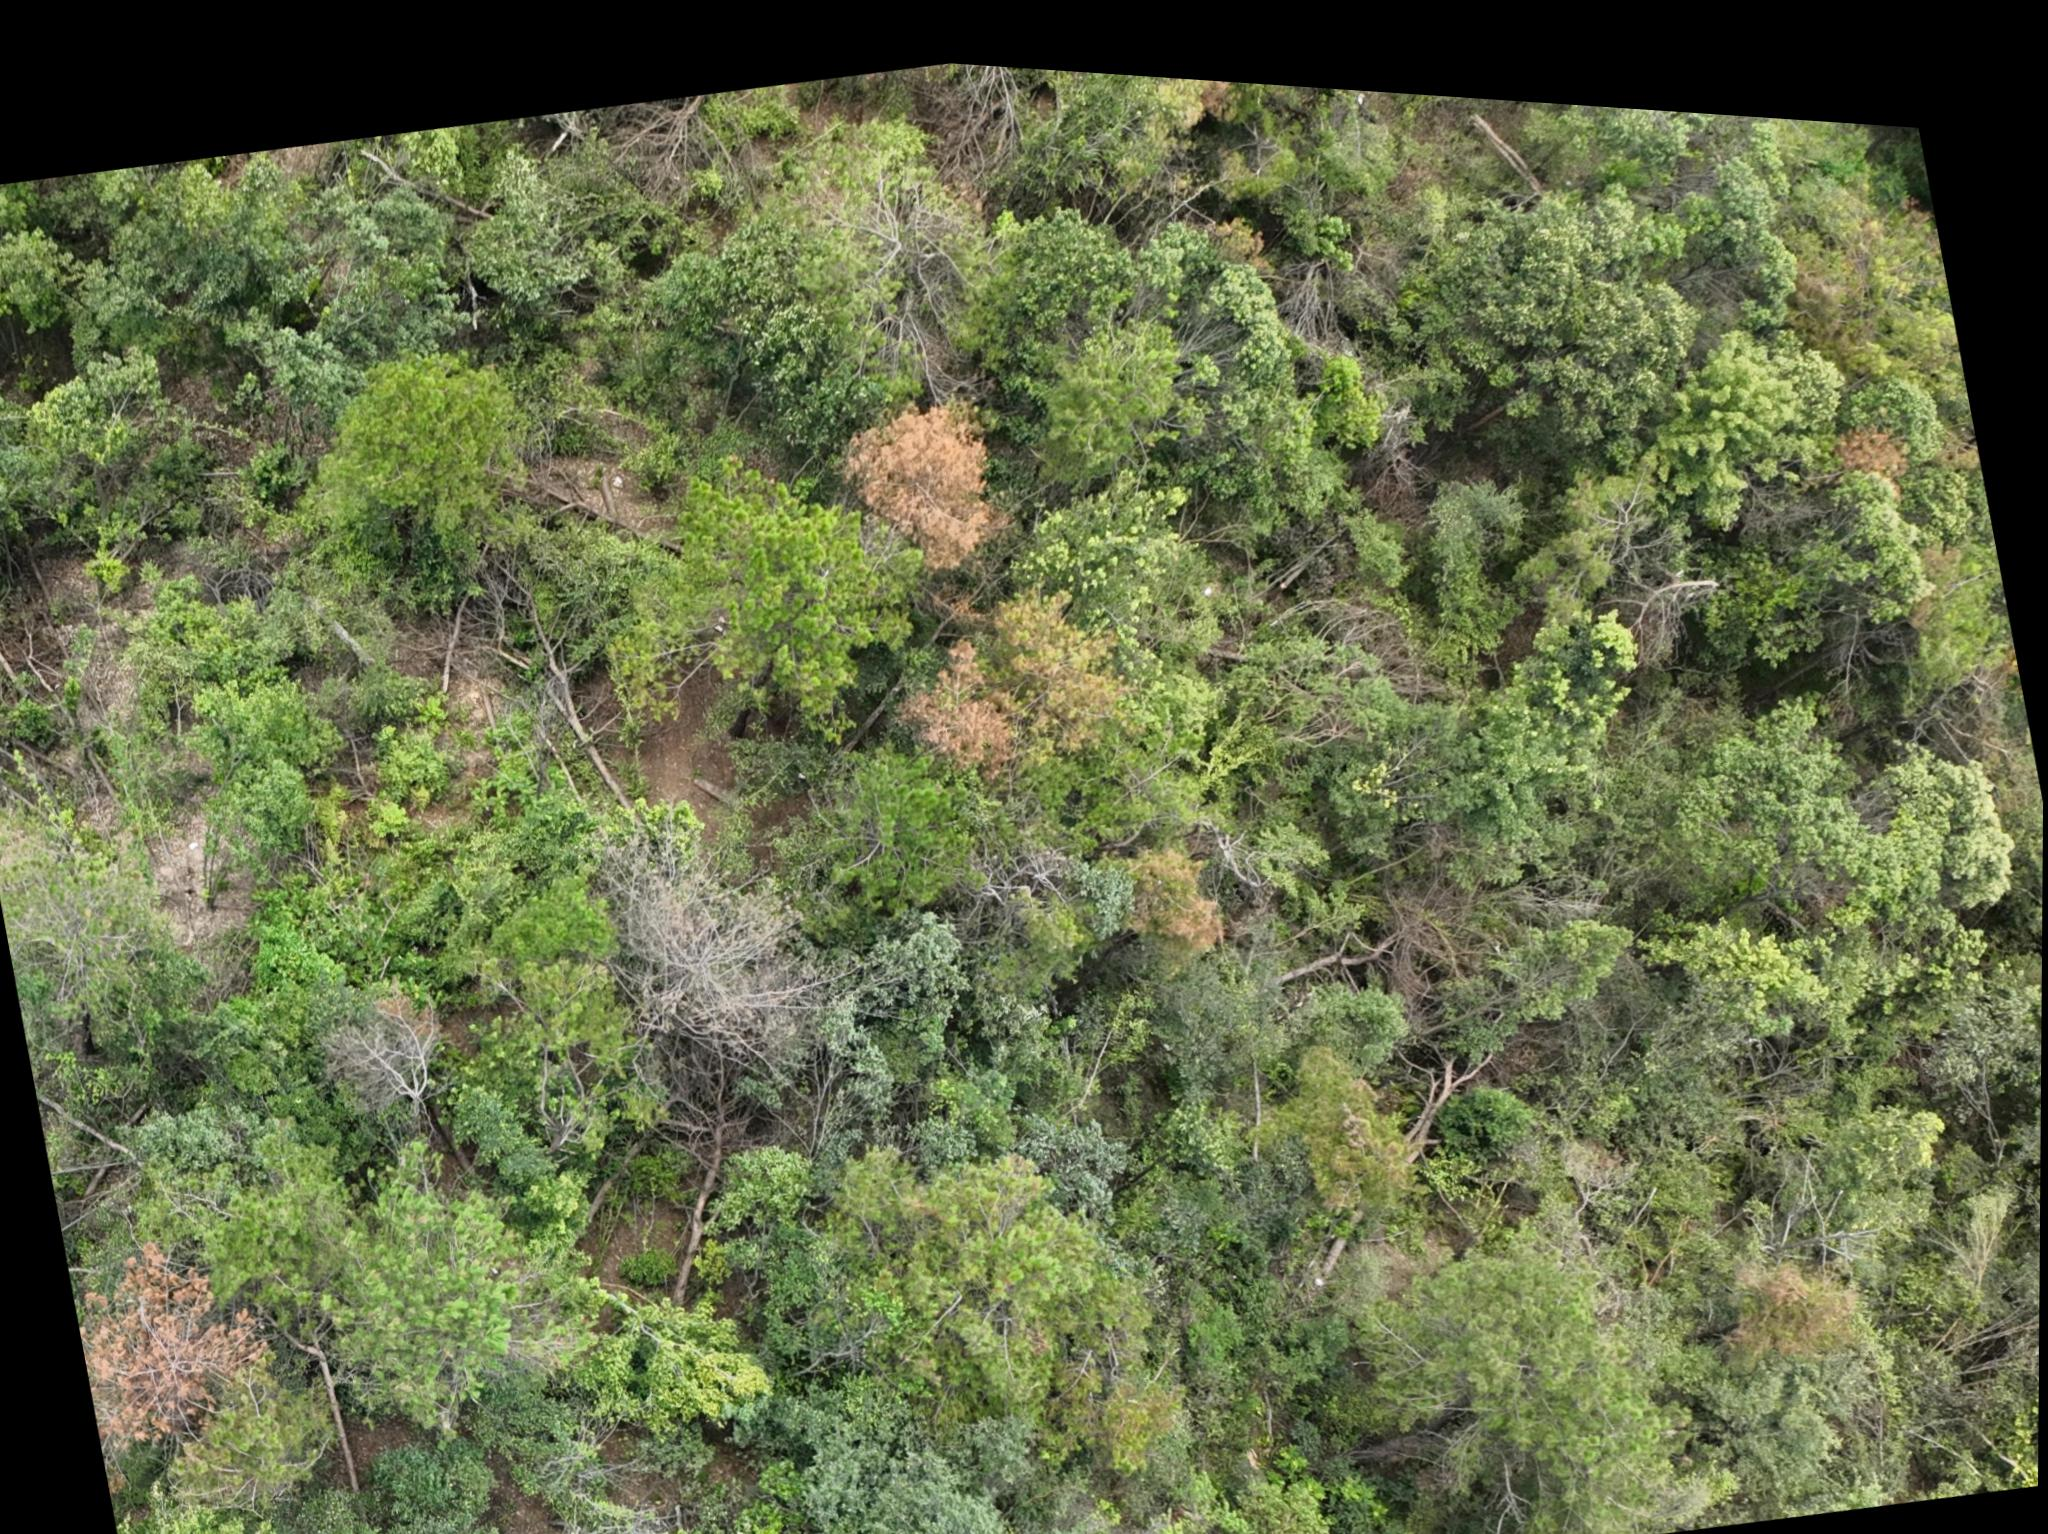dead: (603, 793, 864, 1092), (334, 989, 454, 1121)
heavy: (74, 1223, 300, 1494), (827, 359, 1014, 570), (889, 612, 1023, 778)
light: (1007, 558, 1134, 748), (1113, 807, 1242, 949)
